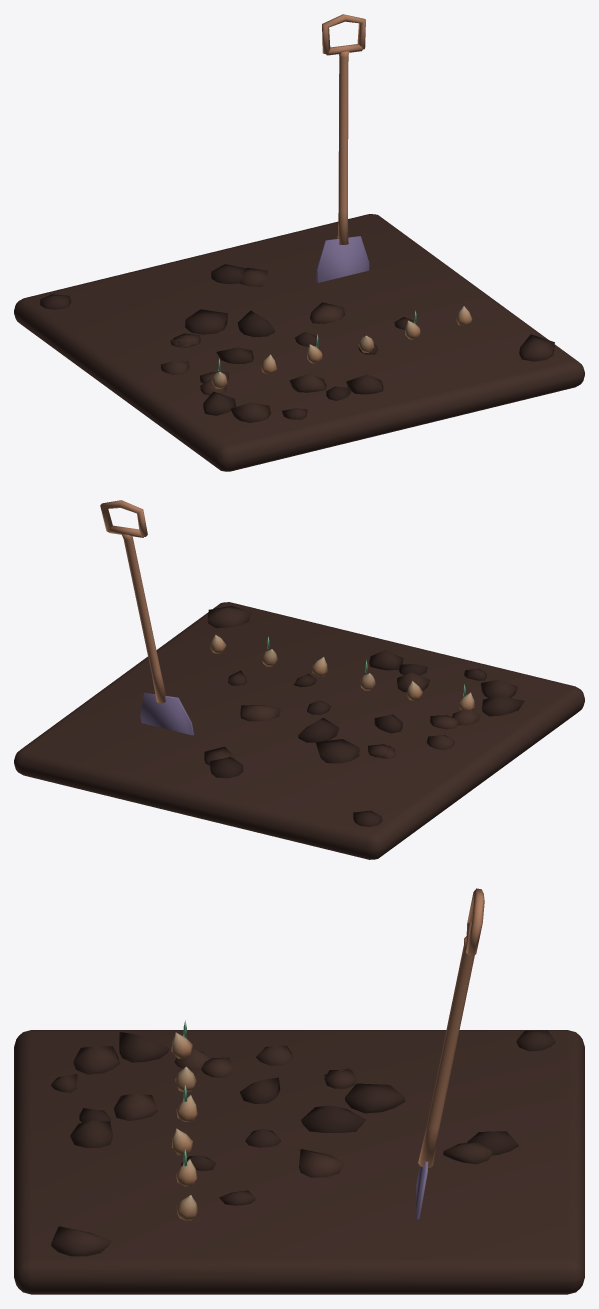
Rendered from dug_plot.glb.
The picture shows the model from 3 angles, top to bottom: view 1: azimuth 30°, elevation 25°; view 2: azimuth 150°, elevation 25°; view 3: azimuth 270°, elevation 25°; orthographic projection. The views are drawn at different scales.
Parts seen in each view (by area): view 1: dug_plot; view 2: dug_plot; view 3: dug_plot.
Part boxes in pixels (x1=…): dug_plot: x1=14, y1=14, x2=584, y2=471; dug_plot: x1=14, y1=500, x2=584, y2=859; dug_plot: x1=14, y1=888, x2=584, y2=1294.
Size of what is drawn, in the model's own units: 1.5 by 1.1 by 1.5.
